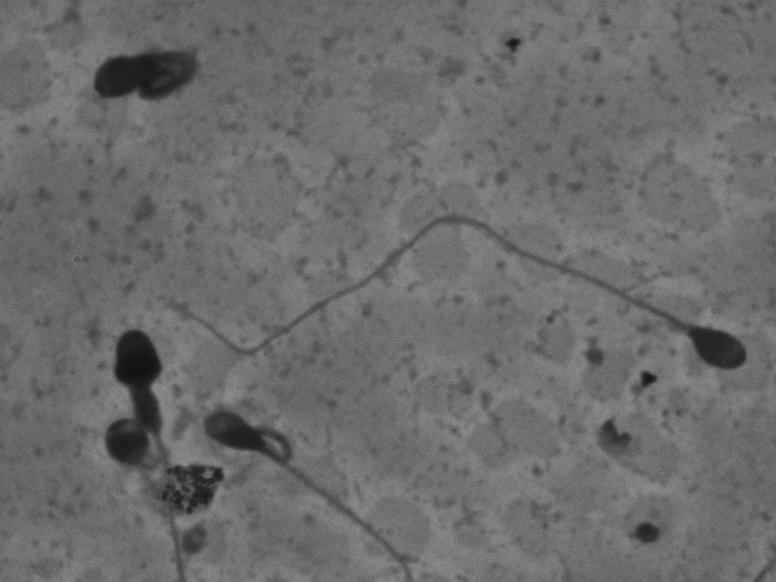Abnormal: (166, 161, 760, 371), (189, 398, 436, 569), (68, 321, 174, 571), (67, 28, 216, 132)
